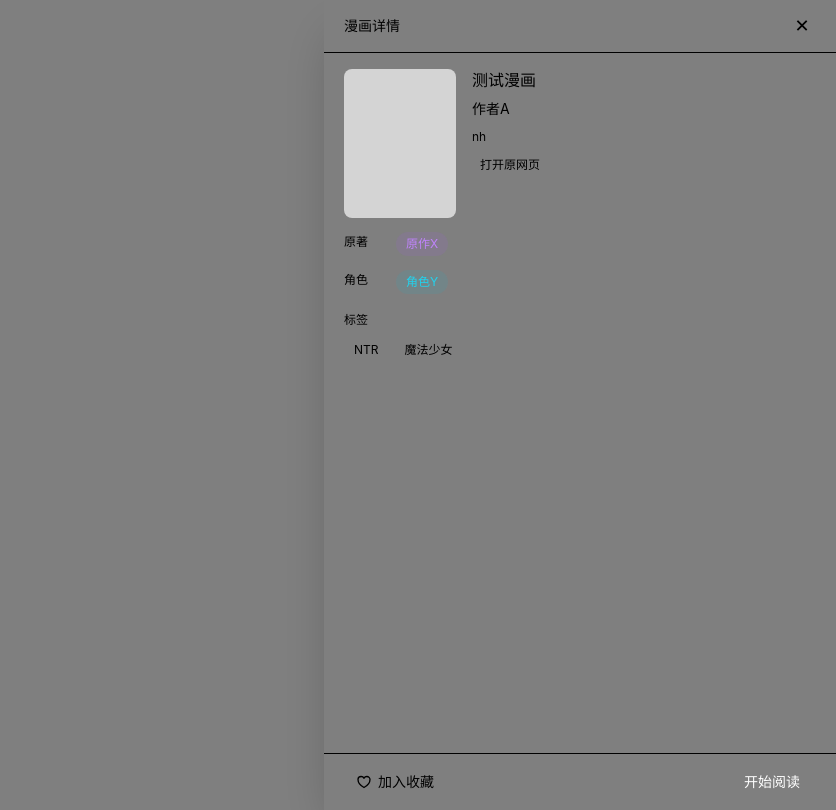
Test: ComicInfoDrawer - 收藏状态提交 › NH 加入收藏返回 false 时保留未收藏状态并提示失败
This screenshot has width=836, height=810.
Click the button "加入收藏" at (395, 782), box top-left (344, 766), bottom-right (446, 798)
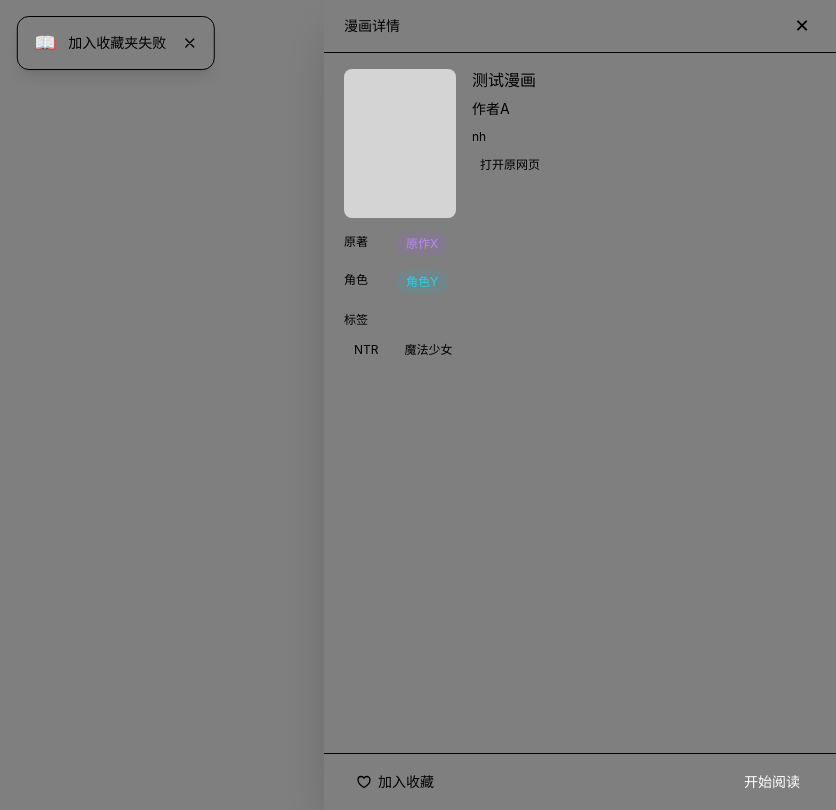
Check: the text "加入收藏夹失败" is shown, box top-left (68, 33), bottom-right (166, 53)
